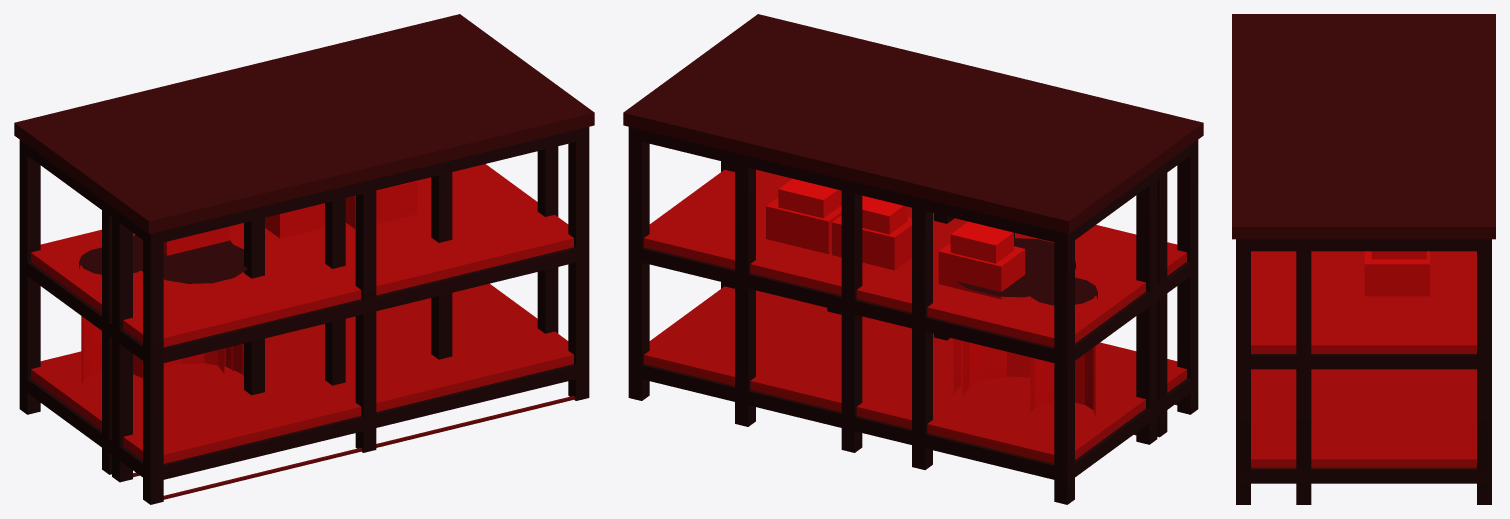
File: stand_iron.glb
3 views of the same model, side by side, from view 1: azimuth 30°, elevation 25°; view 2: azimuth 150°, elevation 25°; view 3: azimuth 270°, elevation 25° (orthographic). The views are drawn at different scales.
Visible parts, largest first — view 1: display_120, long_reef_60, nano_cube_20, rimless_40; view 2: display_120, long_reef_60, rimless_40, nano_cube_20; view 3: display_120, long_reef_60, rimless_40, nano_cube_20.
Boxes of the visible parts, <box> form: display_120: <box>14,14,594,504</box>; long_reef_60: <box>14,15,558,482</box>; nano_cube_20: <box>15,83,269,474</box>; rimless_40: <box>20,40,455,476</box>; display_120: <box>623,14,1203,504</box>; long_reef_60: <box>625,40,1167,459</box>; rimless_40: <box>729,62,1167,475</box>; nano_cube_20: <box>906,113,1162,477</box>; display_120: <box>1232,14,1495,504</box>; long_reef_60: <box>1292,14,1495,504</box>; rimless_40: <box>1292,14,1495,175</box>; nano_cube_20: <box>1312,14,1495,87</box>.
Bounding box in the file's own units: 128 × 78.41 × 67.
